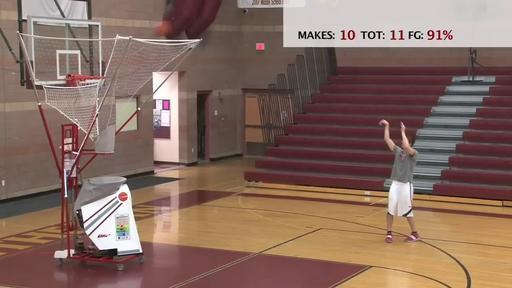ball: (154, 22, 174, 38)
human: (378, 120, 420, 244)
rim: (72, 76, 105, 104)
